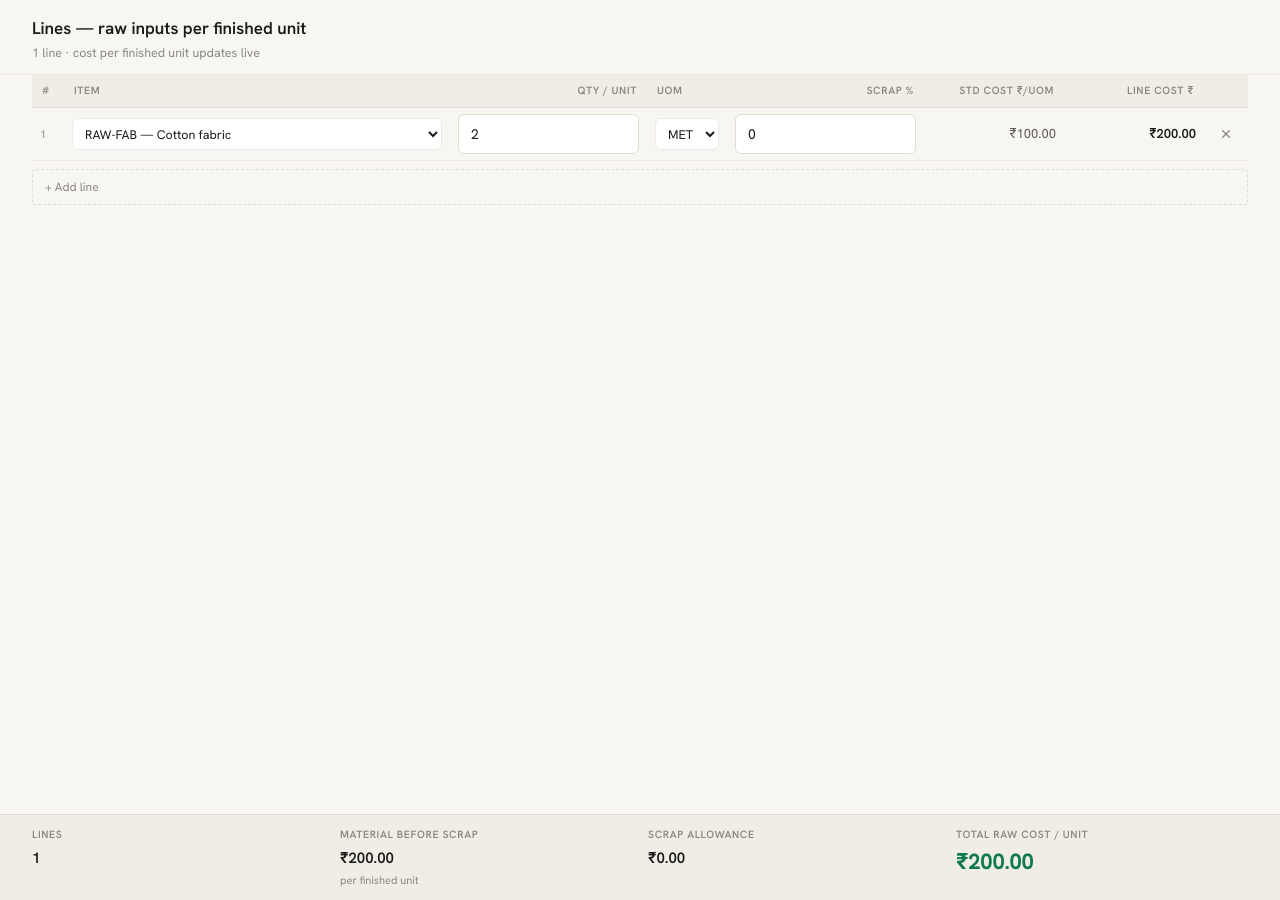
it: BomLinesEditor › recomputes the line cost when qty / scrap changes
Check: the text with test id "line-cost" shows "200", box left=1149, top=125, right=1196, bottom=142
Replace the text in the number field named "qty per unit for line 1" with "3" at (548, 134), box left=459, top=124, right=638, bottom=144
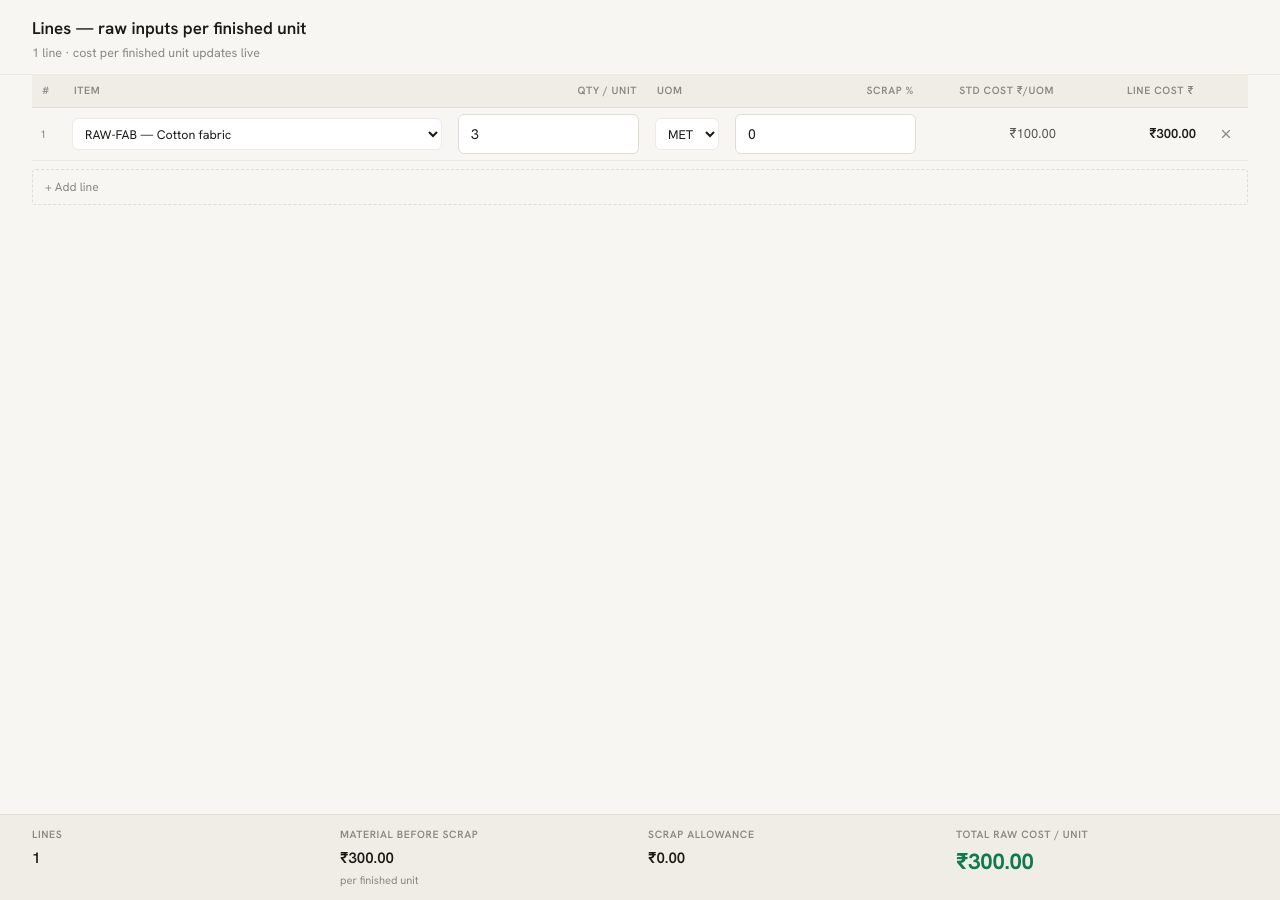
Check: the text with test id "line-cost" shows "300", box left=1149, top=125, right=1196, bottom=142
Replace the text in the number field named "scrap % for line 1" with "10" at (826, 134), box left=736, top=124, right=915, bottom=144
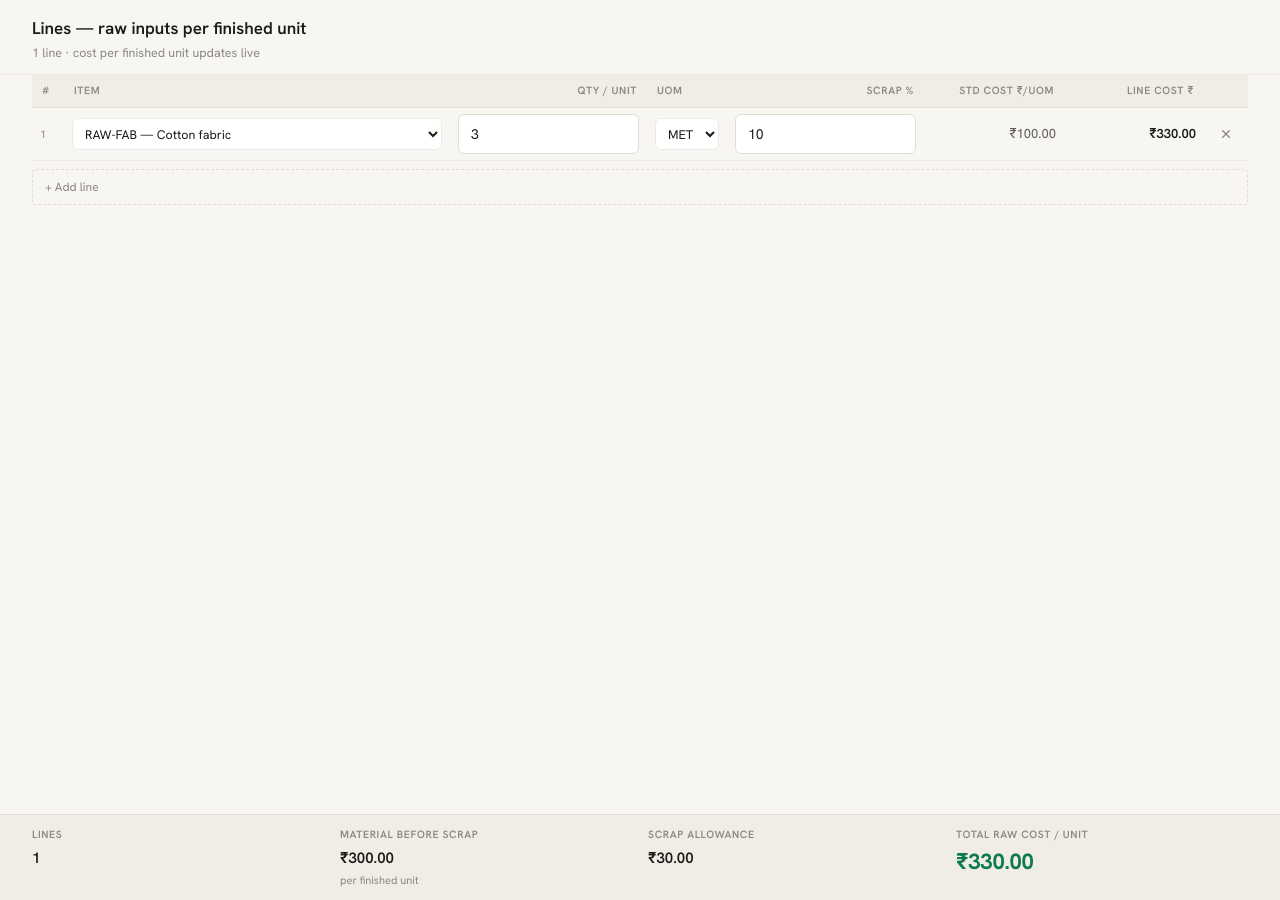
Check: the text with test id "line-cost" shows "330", box left=1149, top=125, right=1196, bottom=142
